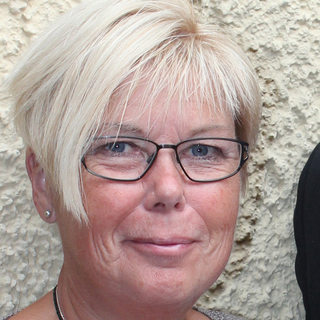eye: (97, 135, 144, 161), (185, 141, 228, 165)
